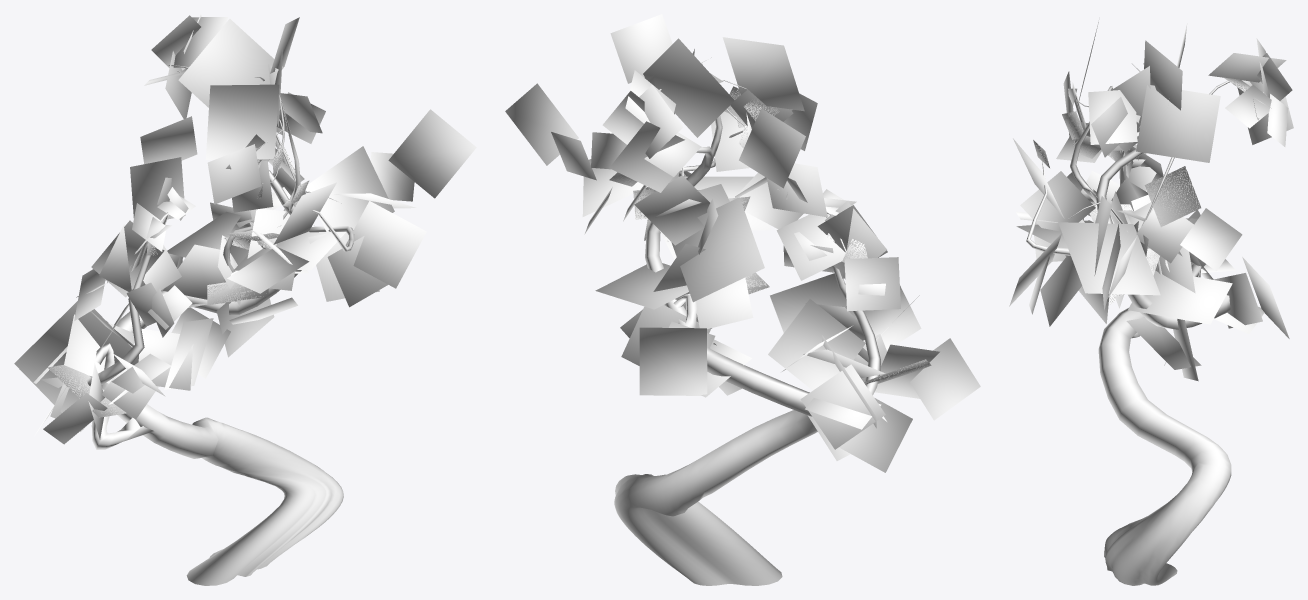
File: Tree3.fbx
3 renders of one model, left to right at view 1: azimuth 30°, elevation 25°; view 2: azimuth 150°, elevation 25°; view 3: azimuth 270°, elevation 25°, orthographic. The views are drawn at different scales.
Parts seen in each view (by area): view 1: Tree; view 2: Tree; view 3: Tree.
Boxes of the visible parts, bbox=[...] form: Tree: bbox=[14, 14, 476, 585]; Tree: bbox=[505, 14, 980, 585]; Tree: bbox=[1009, 22, 1293, 585].
Size of the model in its own units: 1086 by 1223 by 566.
Materials: 2 (2 with a texture image).
